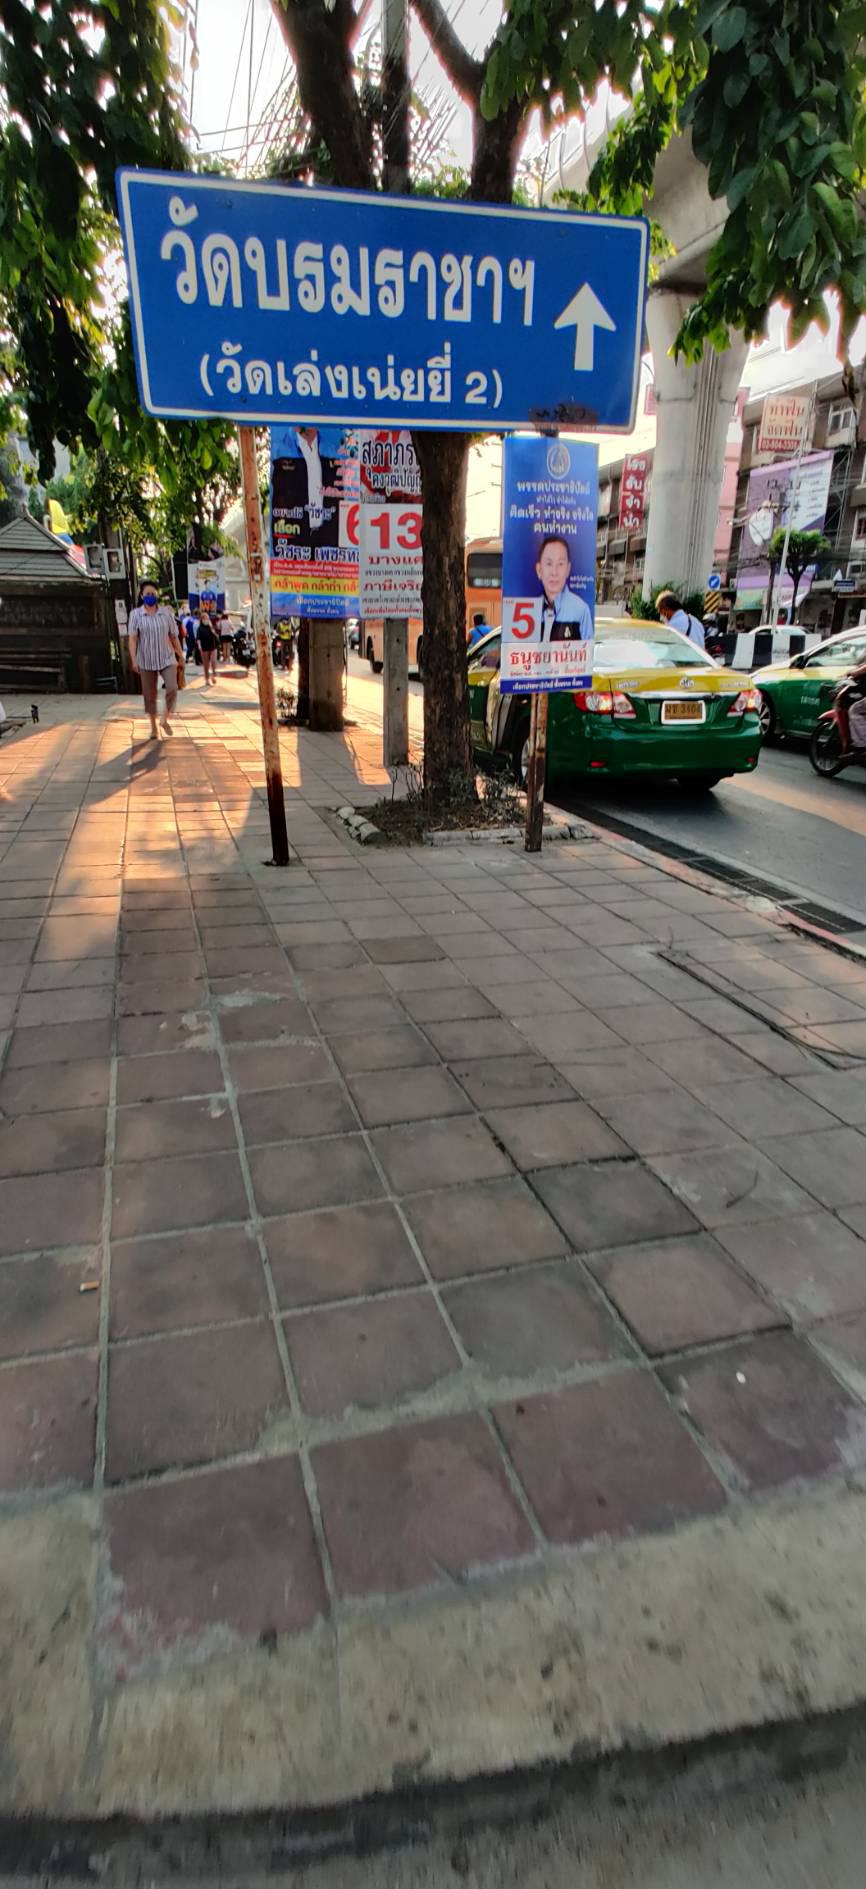Banner: (491, 429, 599, 667), (353, 423, 454, 612), (257, 420, 347, 618)
